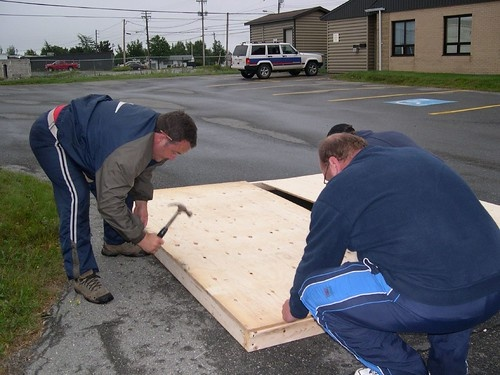hammer: (156, 201, 192, 236)
